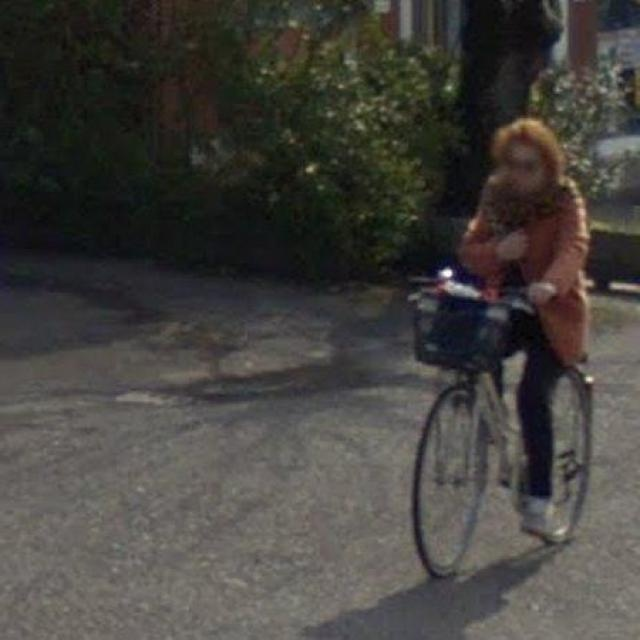bicycle: (384, 245, 621, 594)
